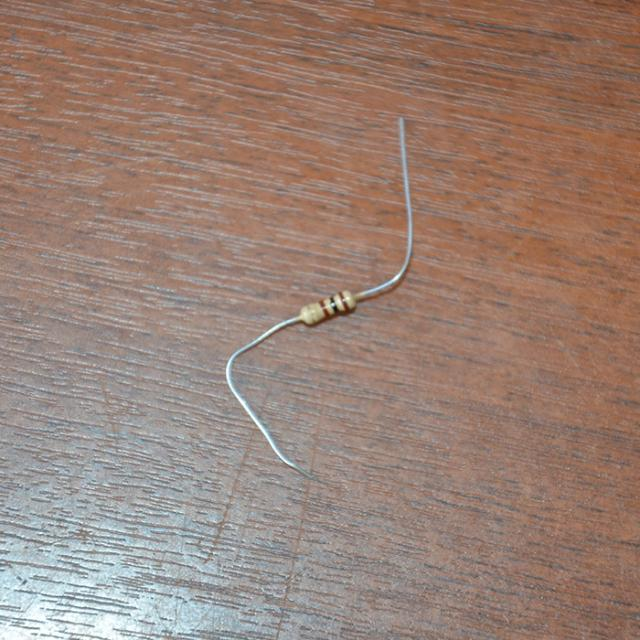black: (330, 296, 339, 314)
brown: (340, 293, 350, 312), (319, 299, 328, 317)
gold: (305, 304, 316, 323)
resistor: (292, 283, 368, 333)
